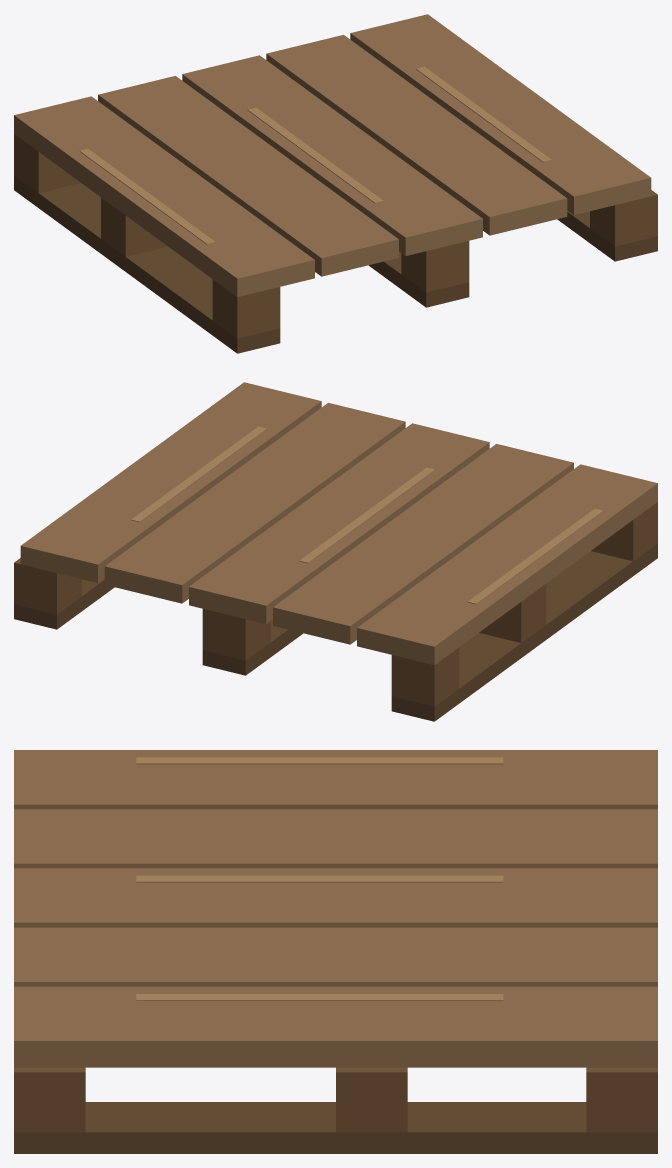
File: CMU3DTimberPallet.glb
3 views of the same model, one above another, from view 1: azimuth 30°, elevation 25°; view 2: azimuth 150°, elevation 25°; view 3: azimuth 270°, elevation 25° (orthographic). The views are drawn at different scales.
Parts seen in each view (by area): view 1: top support board 5, top support board 2, top support board 4, top support board 1, top support board 3, spacer block (×5), bottom runner (×3), board grain (×3); view 2: top support board 5, top support board 2, top support board 4, top support board 1, top support board 3, spacer block (×5), bottom runner (×3), board grain (×3); view 3: top support board 1, top support board 4, top support board 2, top support board 5, top support board 3, bottom runner, spacer block (×3), board grain (×3).
Boxes of the visible parts, left/top/right/bottom form: top support board 5: left=14, top=96, right=314, bottom=297; top support board 2: left=266, top=34, right=567, bottom=235; top support board 4: left=98, top=76, right=398, bottom=276; top support board 1: left=350, top=14, right=651, bottom=214; top support board 3: left=182, top=55, right=482, bottom=255; spacer block (×5): left=14, top=134, right=657, bottom=338; bottom runner (×3): left=14, top=175, right=657, bottom=353; board grain (×3): left=79, top=66, right=551, bottom=244; top support board 5: left=357, top=464, right=657, bottom=665; top support board 2: left=104, top=402, right=405, bottom=603; top support board 4: left=273, top=444, right=573, bottom=644; top support board 1: left=20, top=382, right=321, bottom=582; top support board 3: left=189, top=423, right=489, bottom=623; spacer block (×5): left=14, top=502, right=657, bottom=706; bottom runner (×3): left=14, top=543, right=657, bottom=721; board grain (×3): left=131, top=426, right=603, bottom=604; top support board 1: left=14, top=986, right=657, bottom=1067; top support board 4: left=14, top=809, right=657, bottom=868; top support board 2: left=14, top=927, right=657, bottom=986; top support board 5: left=14, top=750, right=657, bottom=809; top support board 3: left=14, top=868, right=657, bottom=927; bottom runner: left=14, top=1102, right=657, bottom=1153; spacer block (×3): left=14, top=1067, right=657, bottom=1132; board grain (×3): left=136, top=757, right=503, bottom=1000.
Bounding box in the file's own units: 0.88 × 0.1515 × 0.81.
